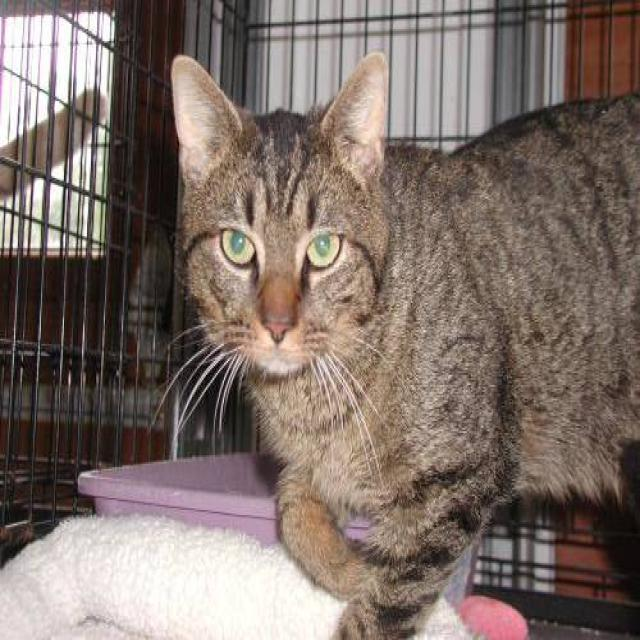cat: (151, 48, 639, 638)
